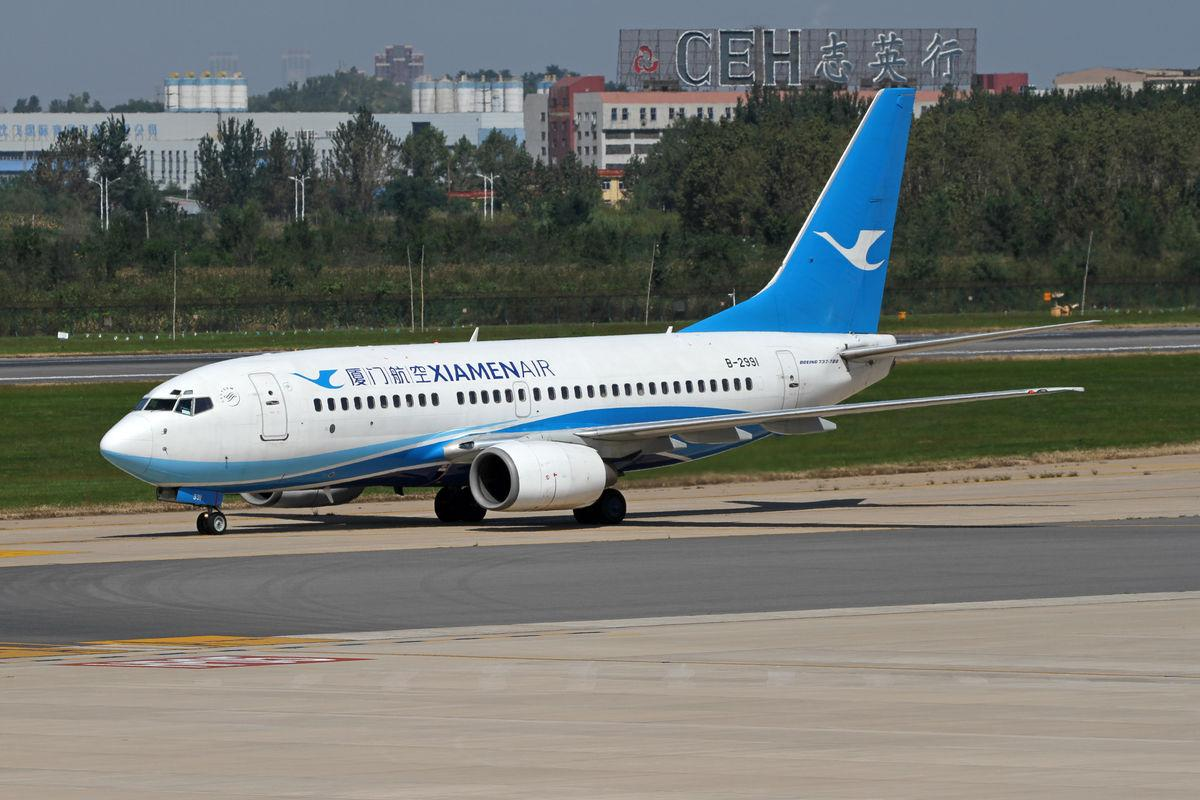airplane: (85, 83, 1108, 553)
